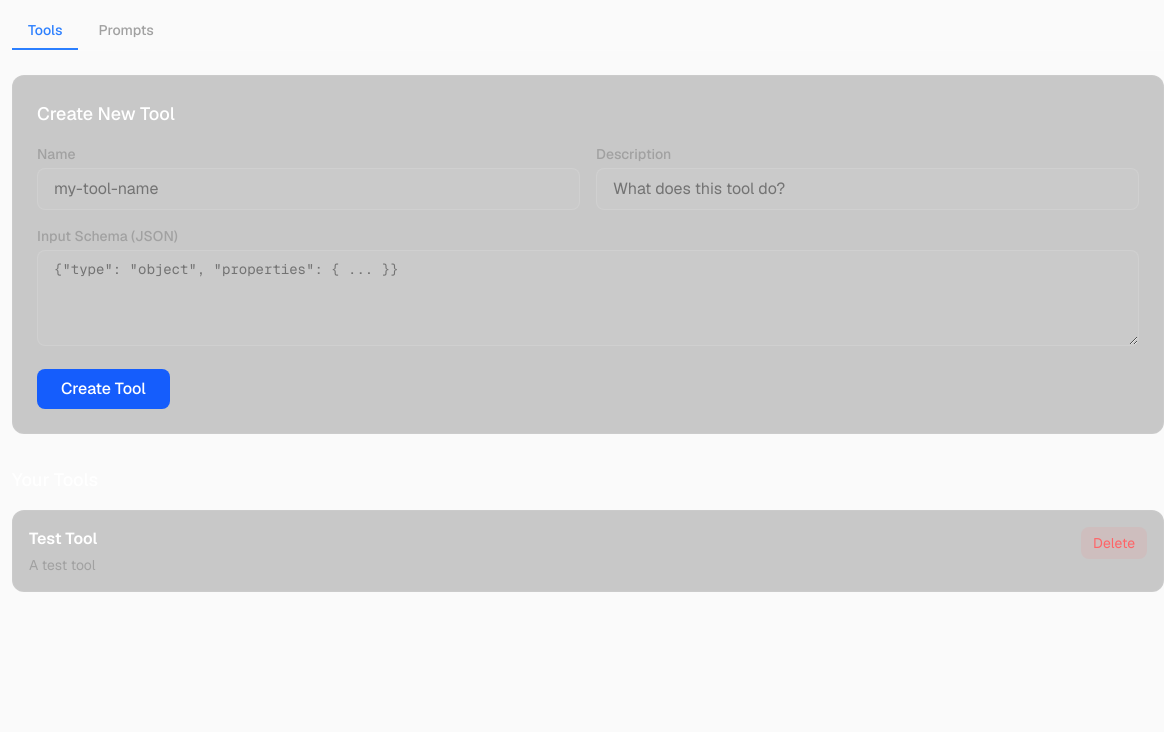
Scenario: McpDashboardClient › switches between tabs
Expected: the heading "Create New Tool" is shown, x1=37 y1=102 x2=175 y2=125
Note: Switch to Prompts tab
Click the button "Prompts" at point(126, 31), box x1=82 y1=12 x2=170 y2=50
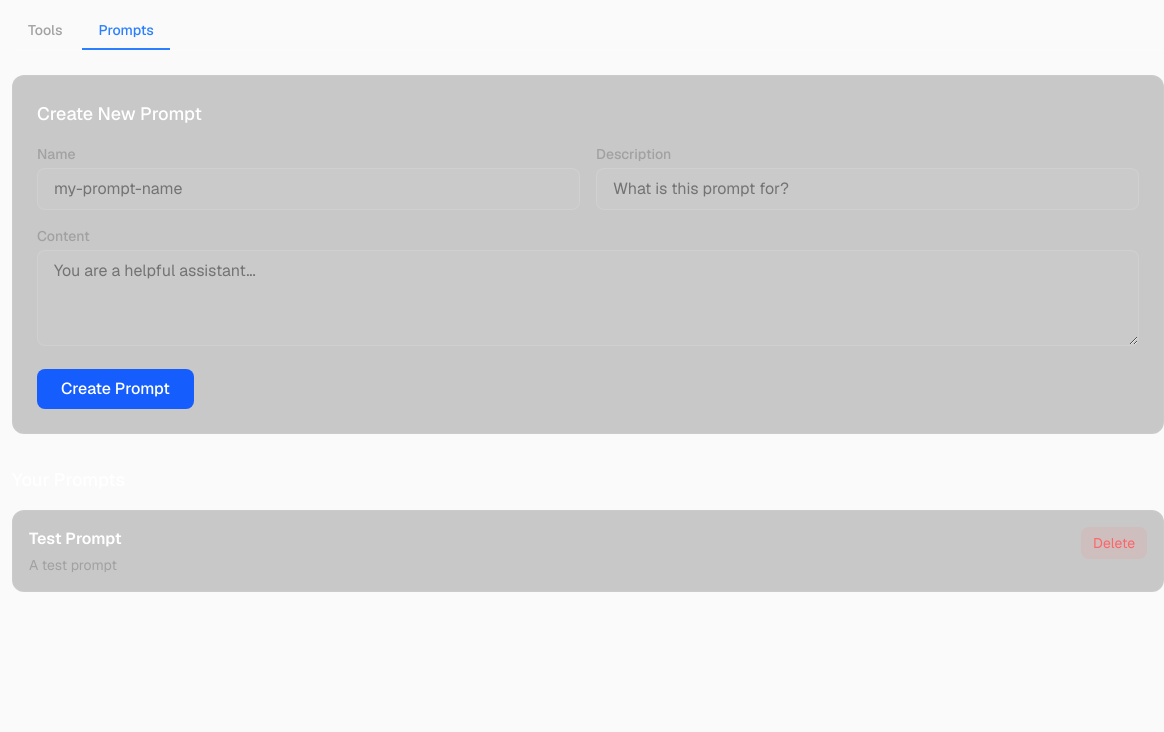
Now the heading "Create New Prompt" is shown, box x1=37 y1=102 x2=202 y2=125
Now the heading "Test Prompt" is shown, box x1=29 y1=527 x2=122 y2=551
Now the text "A test prompt" is shown, box x1=29 y1=555 x2=122 y2=575
